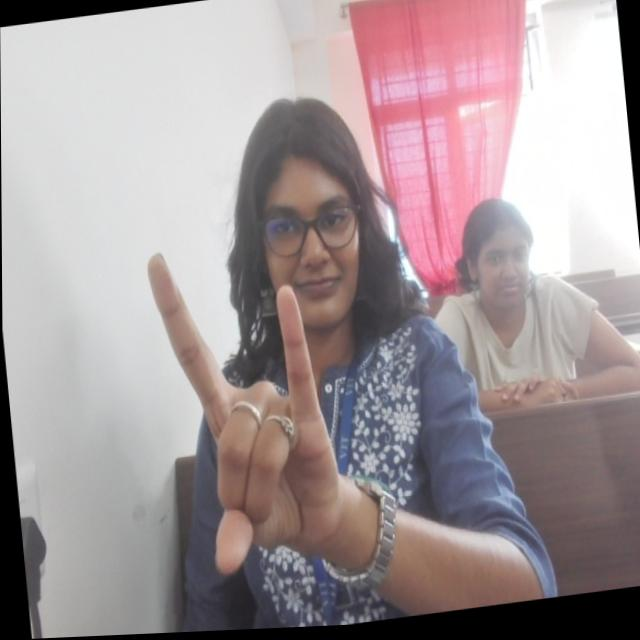iloveyou: (141, 229, 351, 588)
